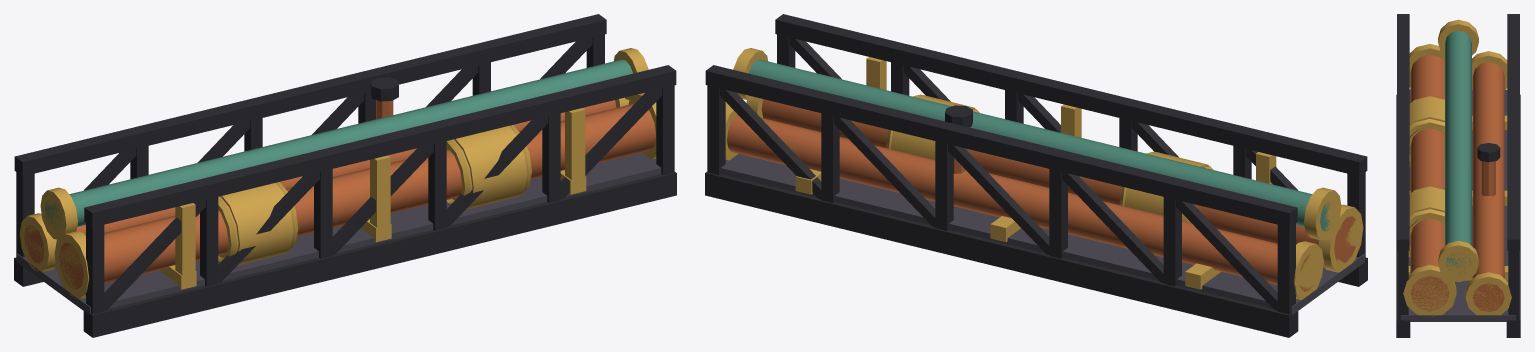
Rendered from PonteCanos.fbx.
The picture shows the model from 3 angles, left to right: view 1: azimuth 30°, elevation 25°; view 2: azimuth 150°, elevation 25°; view 3: azimuth 270°, elevation 25°; orthographic projection. The views are drawn at different scales.
Parts seen in each view (by area): view 1: Corpo; view 2: Corpo; view 3: Corpo.
Boxes of the visible parts, <box> form: Corpo: <box>14,14,676,337</box>; Corpo: <box>705,14,1367,337</box>; Corpo: <box>1396,14,1520,337</box>.
Size of the model in its own units: 6 by 1.24 by 1.4.
